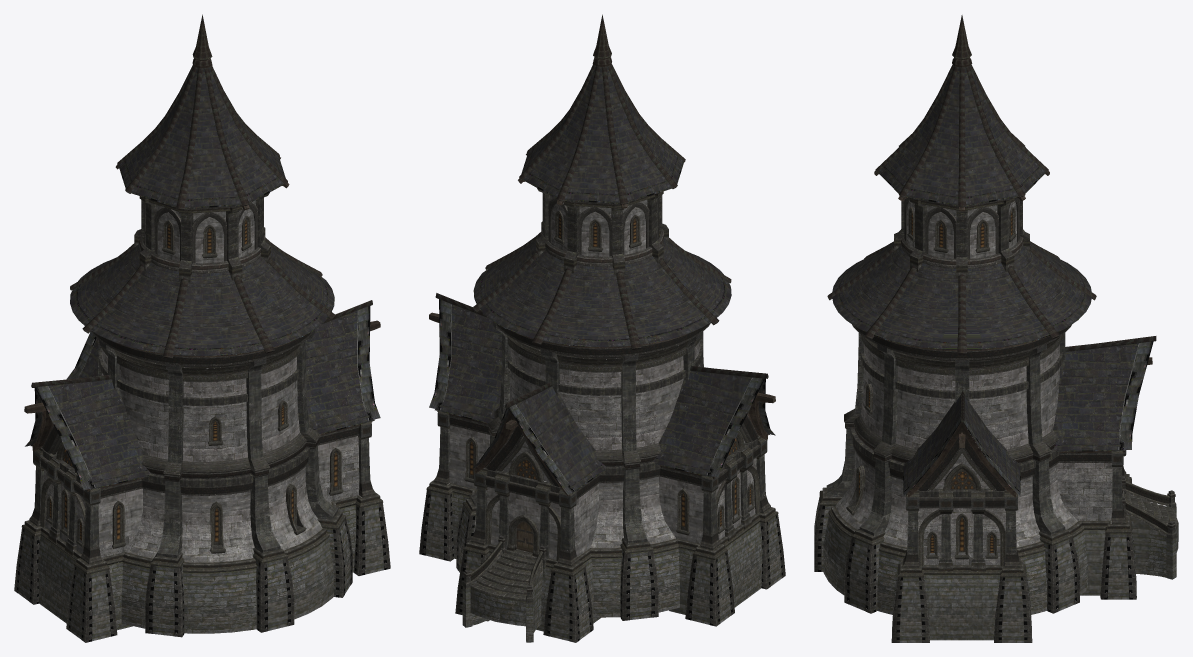
Rendered from eso_gu2_LargeHouseRound1-transformed.glb.
3 renders of one model, left to right at view 1: azimuth 30°, elevation 25°; view 2: azimuth 150°, elevation 25°; view 3: azimuth 270°, elevation 25°, orthographic. The views are drawn at different scales.
Parts seen in each view (by area): view 1: default; view 2: default; view 3: default.
Boxes of the visible parts, x1,y1,x2,y2 form: default: (14,14,390,642); default: (419,14,785,642); default: (814,15,1178,642).
Bounding box in the file's own units: 42.28 × 64.64 × 38.42.
Materials: 9 (9 with a texture image).
